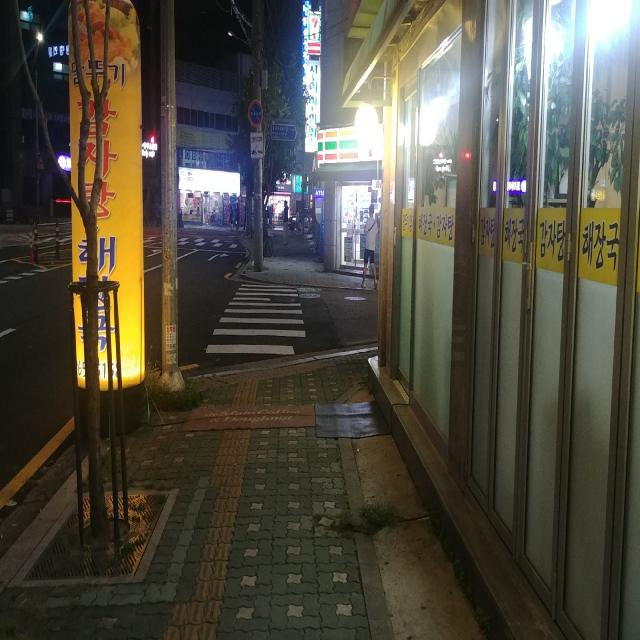횡단보도: (205, 282, 306, 356)
